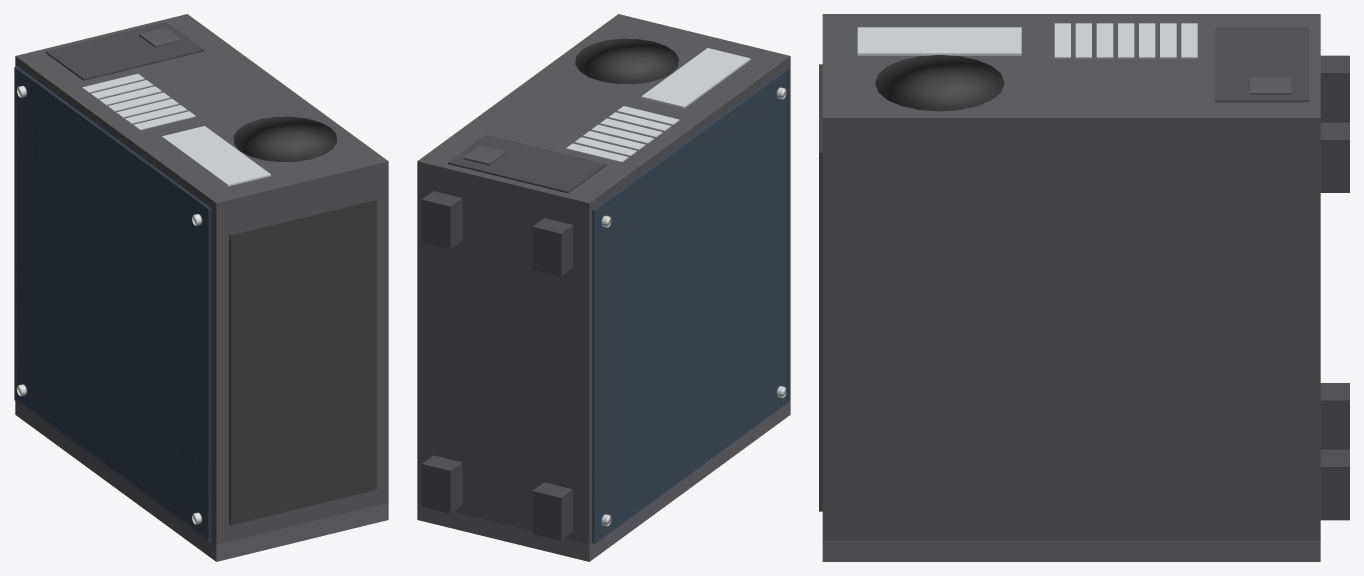
File: truenas-core-host.glb
3 views of the same model, side by side, from view 1: azimuth 30°, elevation 25°; view 2: azimuth 150°, elevation 25°; view 3: azimuth 270°, elevation 25° (orthographic). The views are drawn at different scales.
Parts seen in each view (by area): view 1: truenas-core-host; view 2: truenas-core-host; view 3: truenas-core-host.
Part boxes in pixels (x1,y1,x2,y2): truenas-core-host: (14,14,388,561); truenas-core-host: (417,14,790,561); truenas-core-host: (819,14,1349,561).
Bounding box in the file's own units: 0.219 × 0.427 × 0.453.
